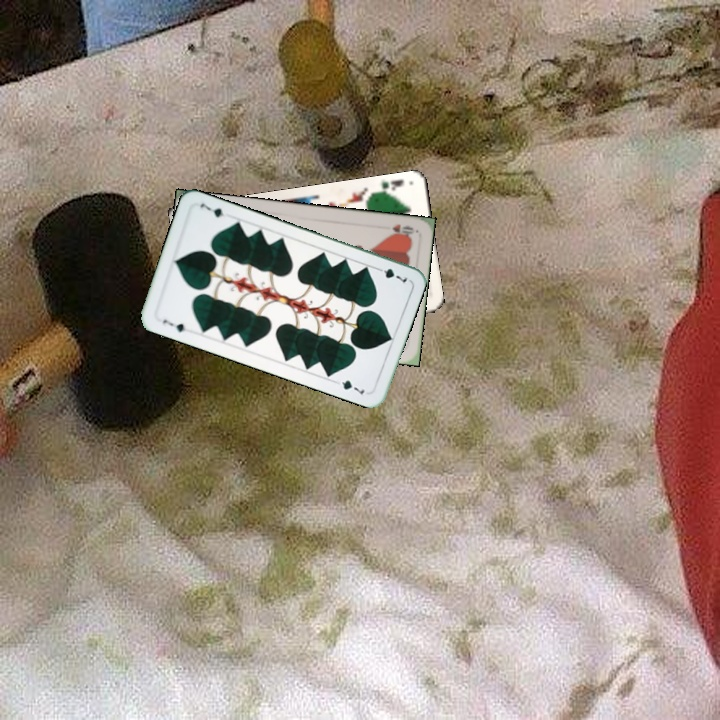G7: (371, 263, 410, 286), (158, 315, 188, 335)
GK: (371, 175, 407, 197)
HO: (386, 220, 417, 238)
